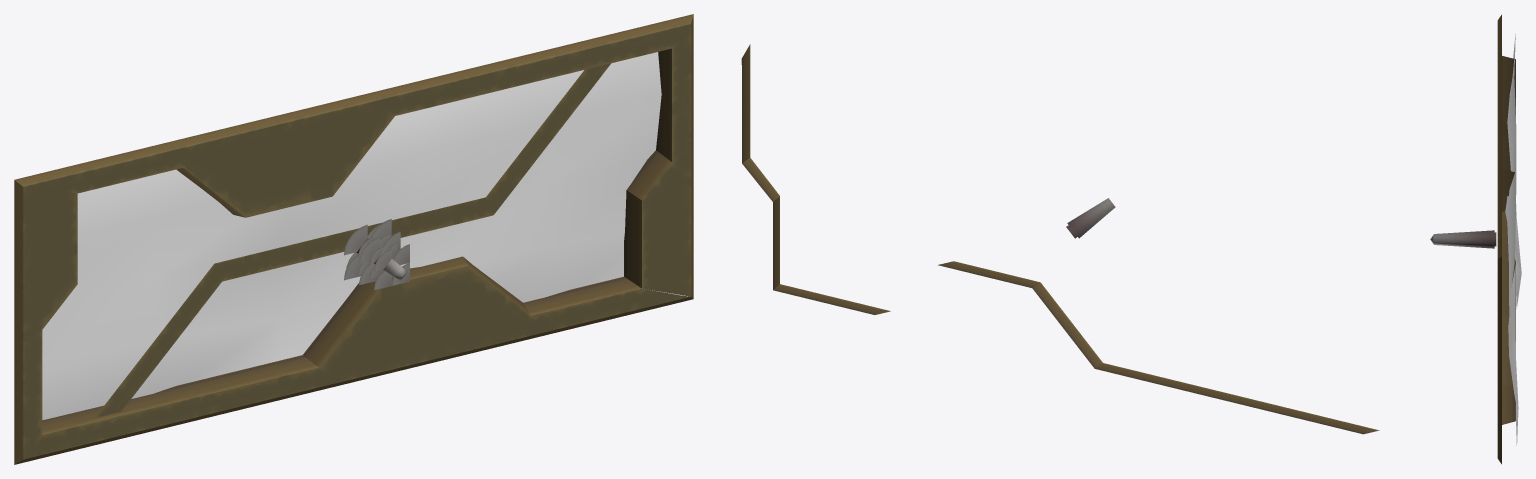
The model's file is shocktrench_5x2.glb.
3 renders of one model, left to right at view 1: azimuth 30°, elevation 25°; view 2: azimuth 150°, elevation 25°; view 3: azimuth 270°, elevation 25°, orthographic. The views are drawn at different scales.
Visible parts, largest first — view 1: shock_trenches.shocktrench_5x2-MeshNodes["shock_trench_5x2"], shock_trenches.shocktrench_5x2-MeshNodes["shock_trench_5x2_w, shock_trenches.transformer-Mesh[0]; view 2: shock_trenches.shocktrench_5x2-MeshNodes["shock_trench_5x2"], shock_trenches.transformer-Mesh[1]; view 3: shock_trenches.shocktrench_5x2-MeshNodes["shock_trench_5x2"], shock_trenches.shocktrench_5x2-MeshNodes["shock_trench_5x2_w, shock_trenches.transformer-Mesh[1].
Boxes of the visible parts, bbox=[...] form: shock_trenches.shocktrench_5x2-MeshNodes["shock_trench_5x2"]: bbox=[14, 14, 693, 464]; shock_trenches.shocktrench_5x2-MeshNodes["shock_trench_5x2_w: bbox=[42, 52, 661, 420]; shock_trenches.transformer-Mesh[0]: bbox=[344, 219, 409, 290]; shock_trenches.shocktrench_5x2-MeshNodes["shock_trench_5x2"]: bbox=[741, 44, 1379, 434]; shock_trenches.transformer-Mesh[1]: bbox=[1067, 198, 1115, 238]; shock_trenches.shocktrench_5x2-MeshNodes["shock_trench_5x2"]: bbox=[1497, 14, 1515, 464]; shock_trenches.shocktrench_5x2-MeshNodes["shock_trench_5x2_w: bbox=[1505, 34, 1521, 445]; shock_trenches.transformer-Mesh[1]: bbox=[1430, 230, 1494, 248].
Size of the model in its own units: 5.01 by 2.01 by 0.7984.
4 materials, 3 textured.
